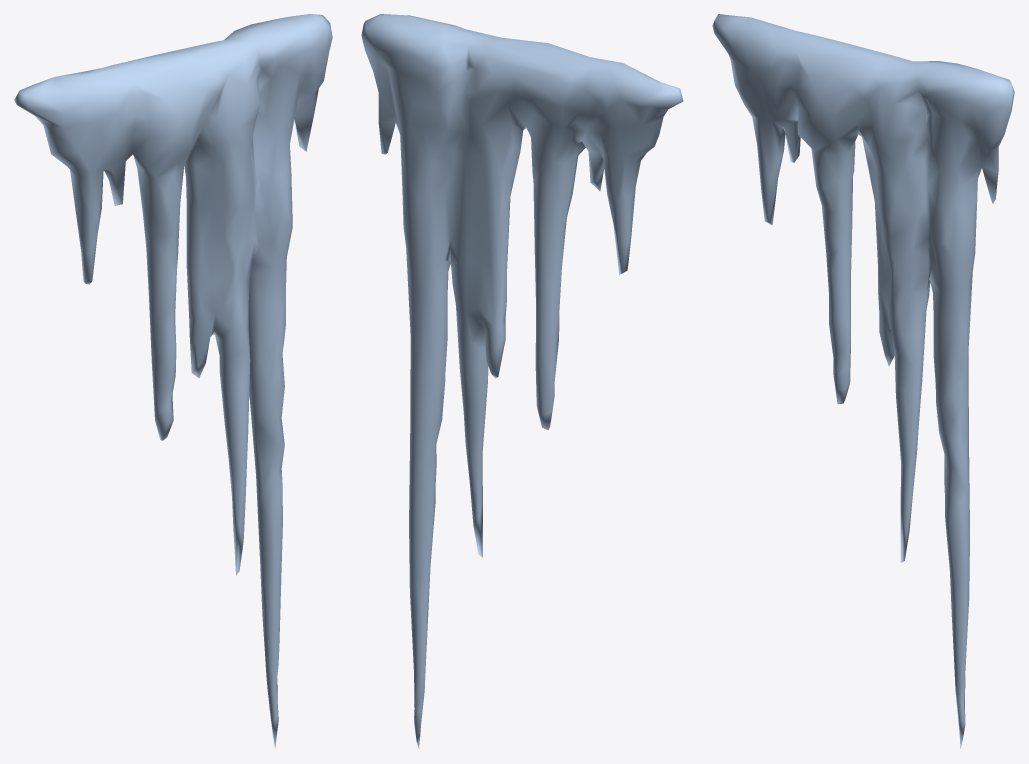
File: IciclesSmall_02.fbx
The picture shows the model from 3 angles, left to right: view 1: azimuth 30°, elevation 25°; view 2: azimuth 150°, elevation 25°; view 3: azimuth 330°, elevation 25°; orthographic projection. The views are drawn at different scales.
Parts seen in each view (by area): view 1: IciclesSmall_02.001; view 2: IciclesSmall_02.001; view 3: IciclesSmall_02.001.
Boxes of the visible parts, left/top/right/bottom form: IciclesSmall_02.001: left=14, top=14, right=332, bottom=749; IciclesSmall_02.001: left=361, top=14, right=683, bottom=748; IciclesSmall_02.001: left=712, top=14, right=1014, bottom=748.
Bounding box in the file's own units: 0.4642 × 1.02 × 0.1118.
